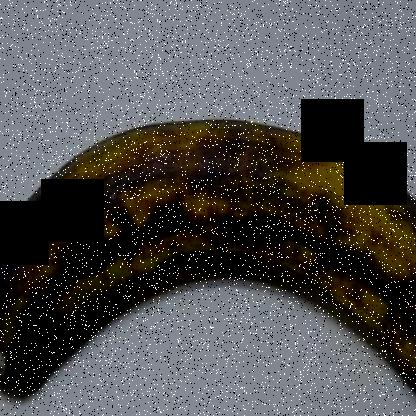overripe: (0, 108, 415, 407)
rotten: (0, 253, 61, 384)
